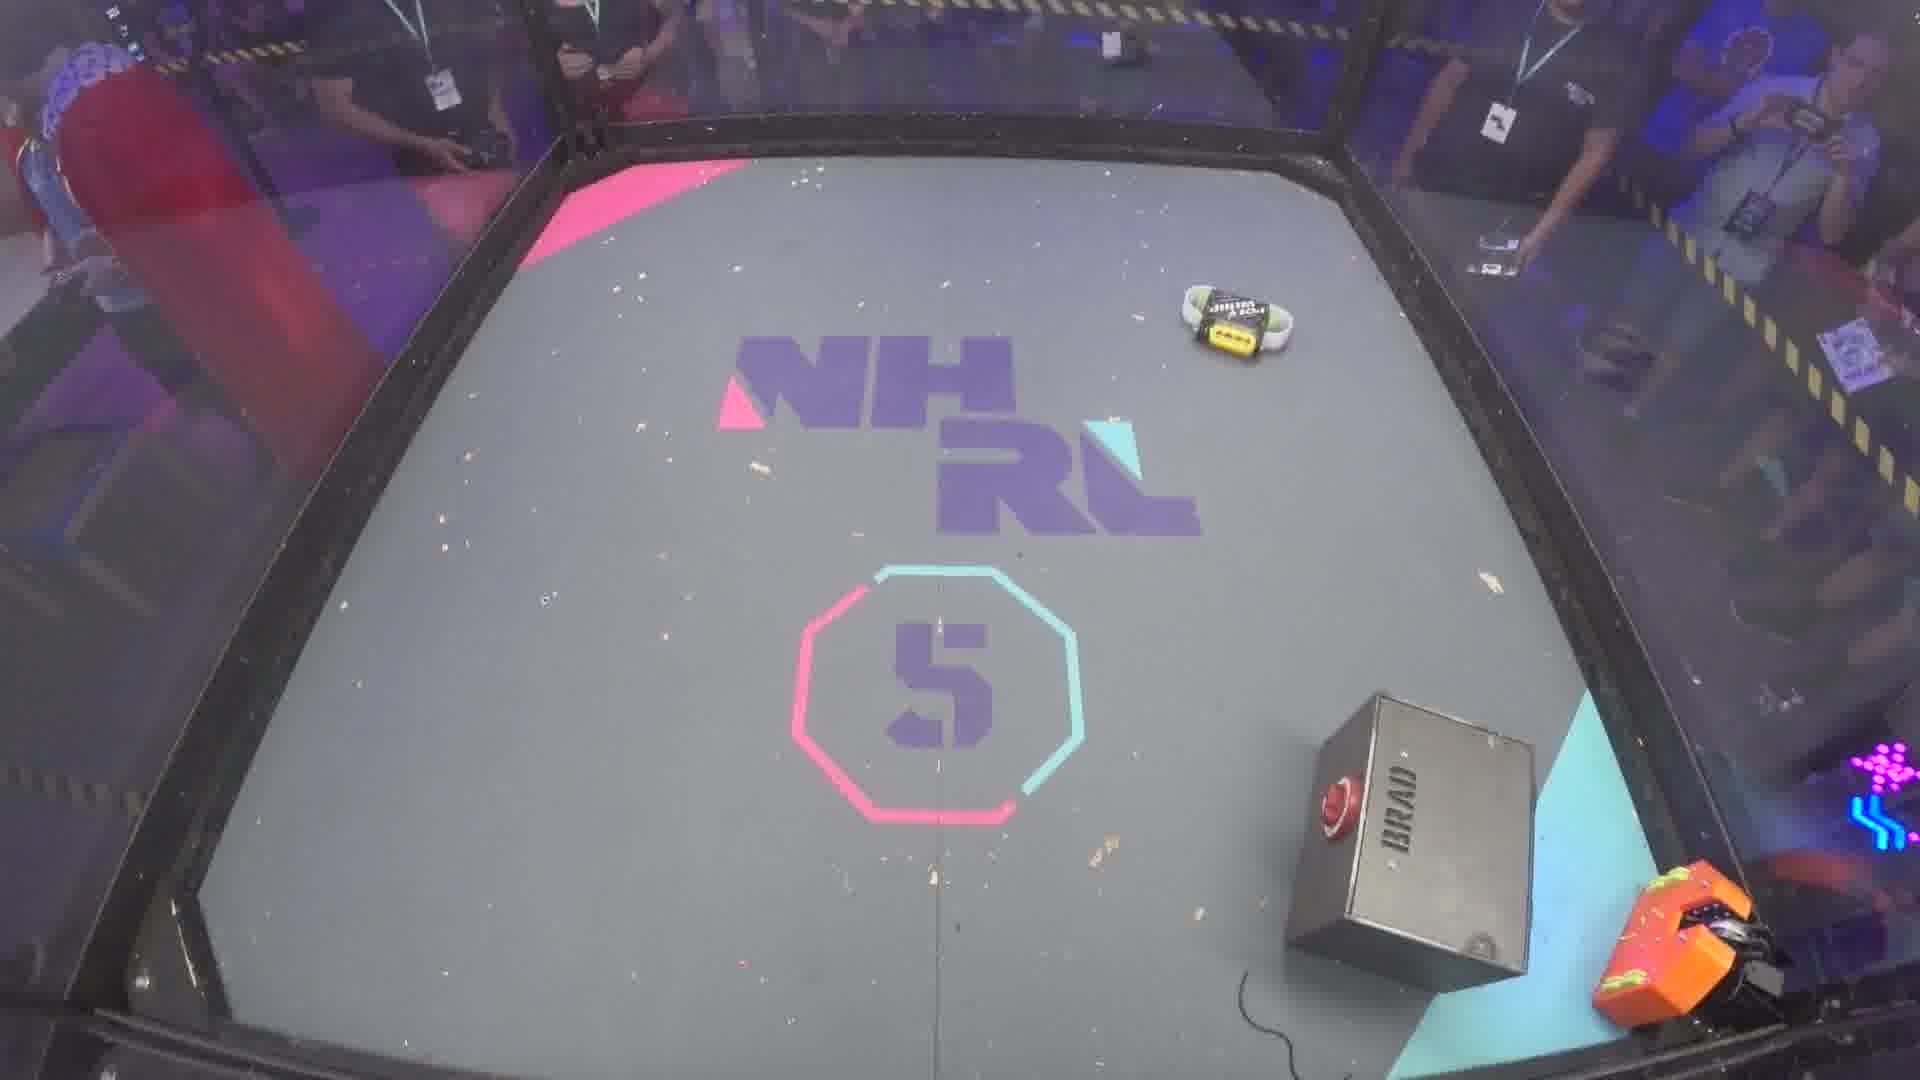belt: (1232, 972, 1303, 1079)
combatbot: (1588, 861, 1775, 1029), (1178, 286, 1292, 363)
housebot: (1288, 688, 1536, 982)
